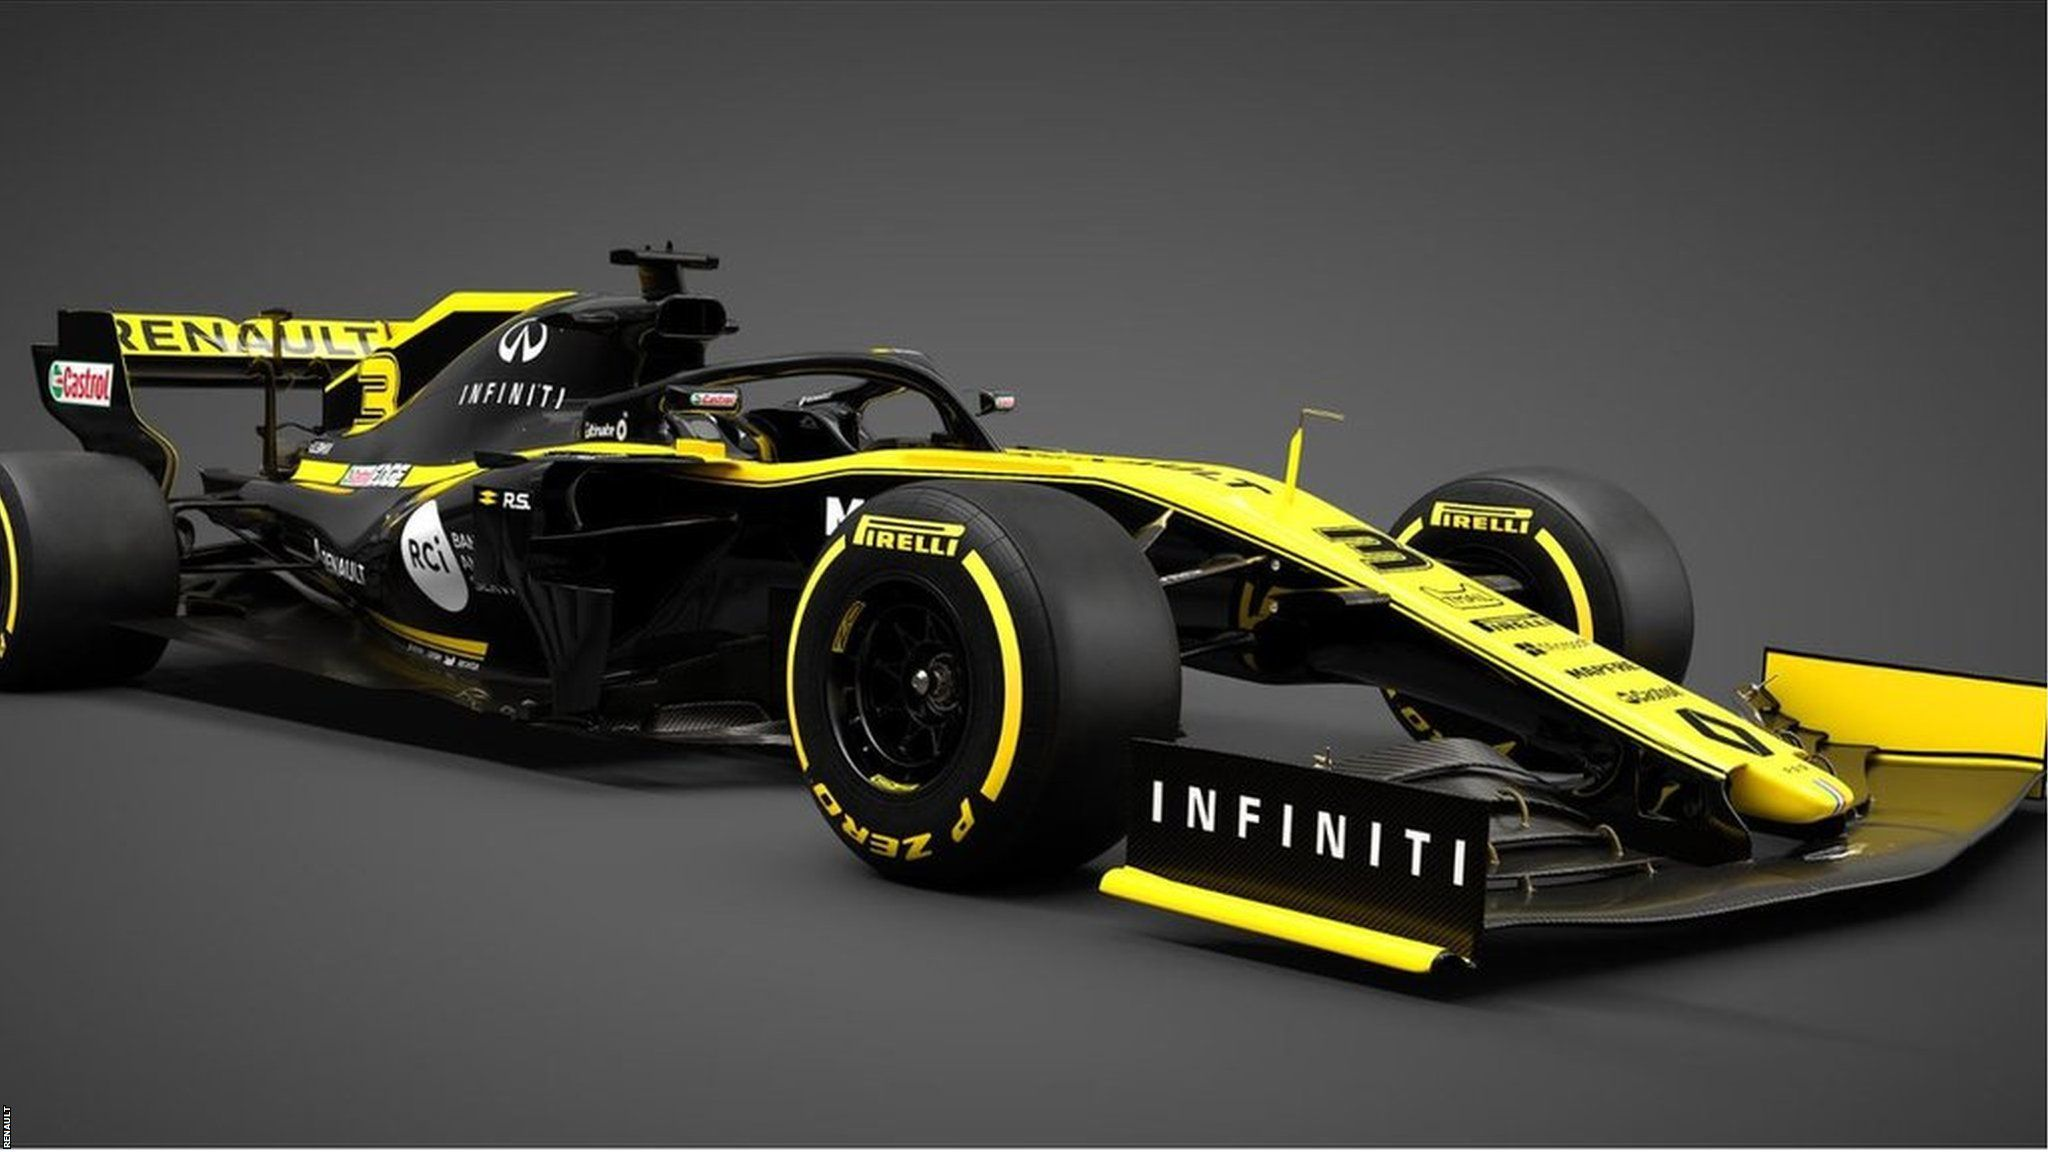f1_car: (1, 218, 2047, 1014)
